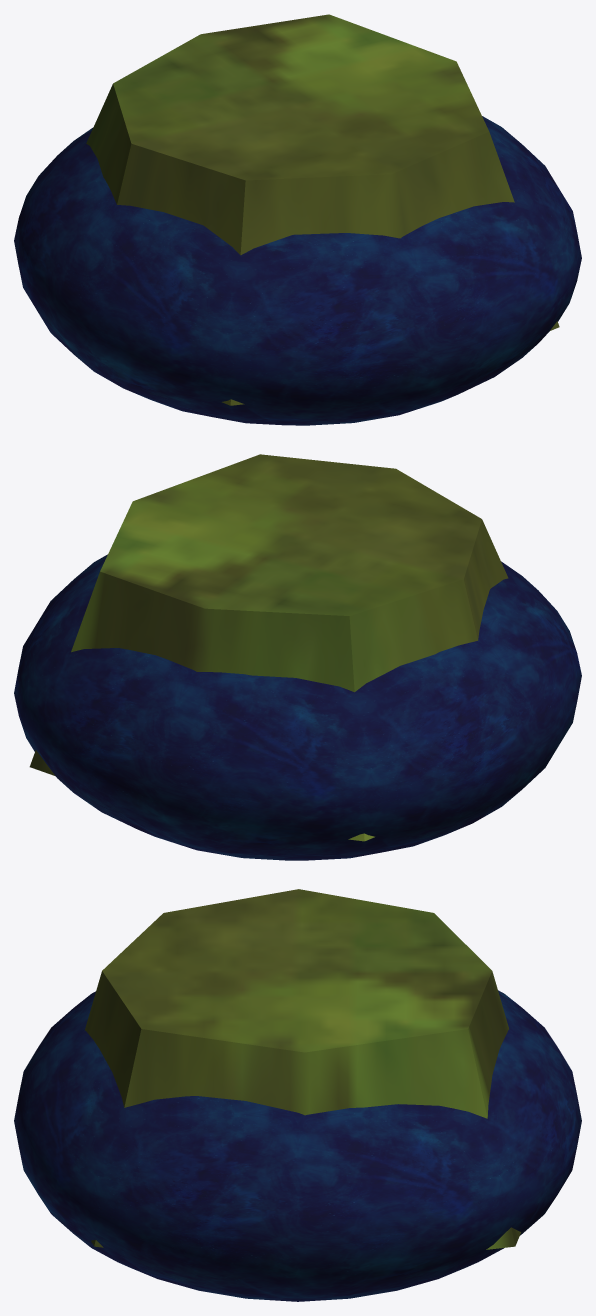
File: JauneSwimsuit2025.scene.glb
The picture shows the model from 3 angles, top to bottom: view 1: azimuth 30°, elevation 25°; view 2: azimuth 150°, elevation 25°; view 3: azimuth 270°, elevation 25°; orthographic projection. The views are drawn at different scales.
Parts seen in each view (by area): view 1: Skybox, Dummy_SkyBox; view 2: Skybox, Dummy_SkyBox; view 3: Skybox, Dummy_SkyBox.
Part boxes in pixels (x1=…): Skybox: x1=14, y1=116, x2=581, y2=425; Dummy_SkyBox: x1=86, y1=14, x2=559, y2=405; Skybox: x1=14, y1=554, x2=581, y2=860; Dummy_SkyBox: x1=29, y1=454, x2=508, y2=841; Skybox: x1=14, y1=990, x2=581, y2=1301; Dummy_SkyBox: x1=85, y1=889, x2=520, y2=1249.
Size of the model in its own units: 849 by 458 by 849.
Materials: 6 (6 with a texture image).
